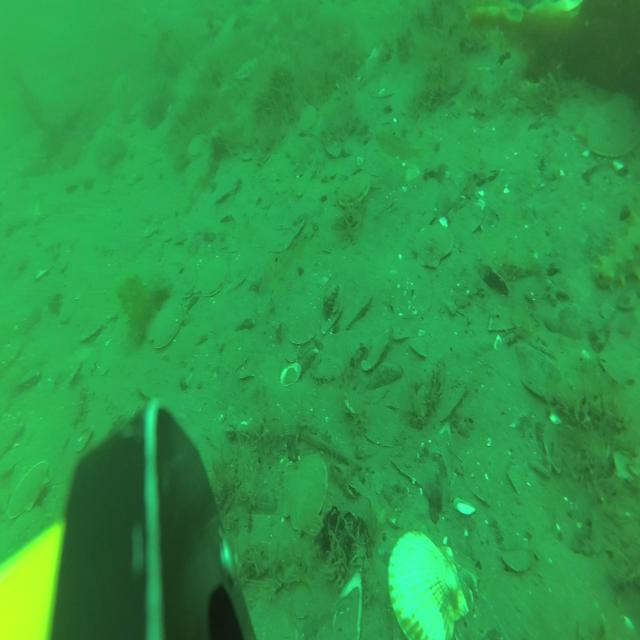scallop: (385, 525, 468, 640), (573, 96, 640, 169), (376, 241, 436, 322), (281, 455, 328, 533), (6, 459, 54, 522), (598, 324, 640, 388), (354, 322, 394, 380), (149, 298, 189, 352), (336, 168, 374, 215), (414, 224, 451, 272), (340, 288, 371, 332), (498, 546, 536, 581), (289, 304, 319, 348), (201, 257, 230, 299), (298, 104, 317, 134), (410, 335, 429, 361), (388, 321, 408, 342), (188, 132, 204, 158)
